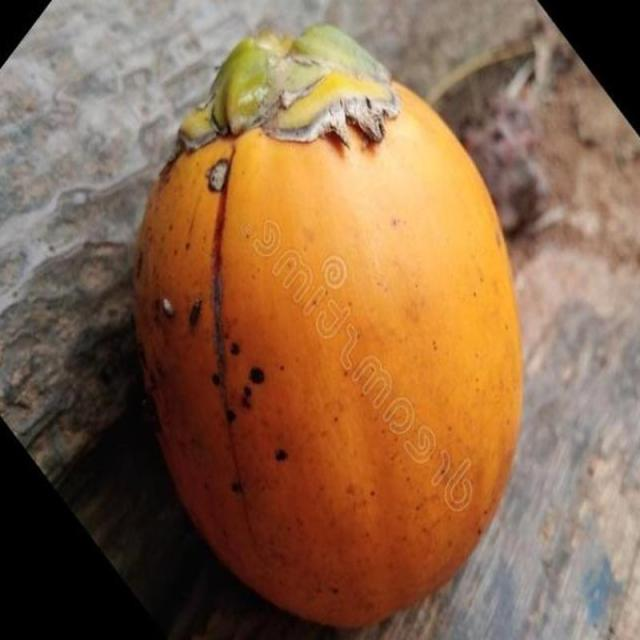good: (130, 23, 525, 633)
